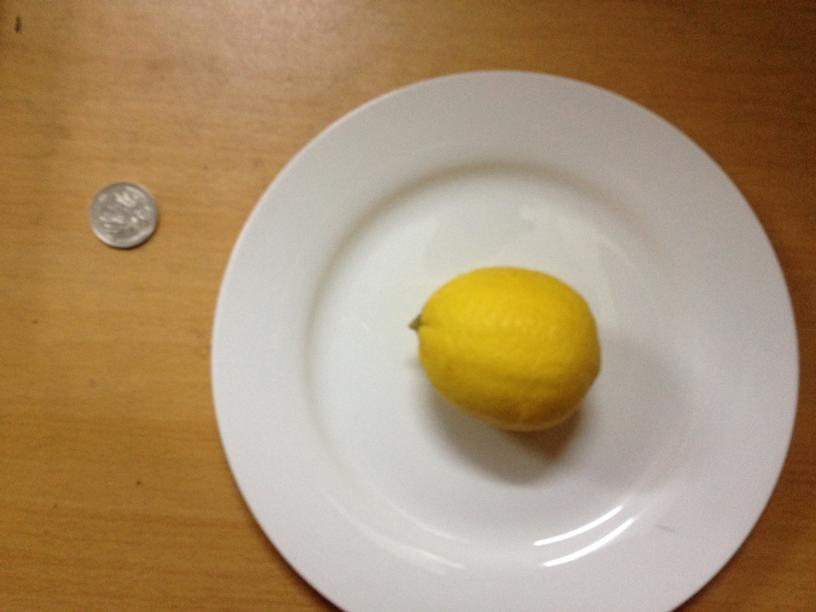coin: (89, 185, 154, 248)
lemon: (413, 262, 601, 431), (89, 185, 154, 248)
